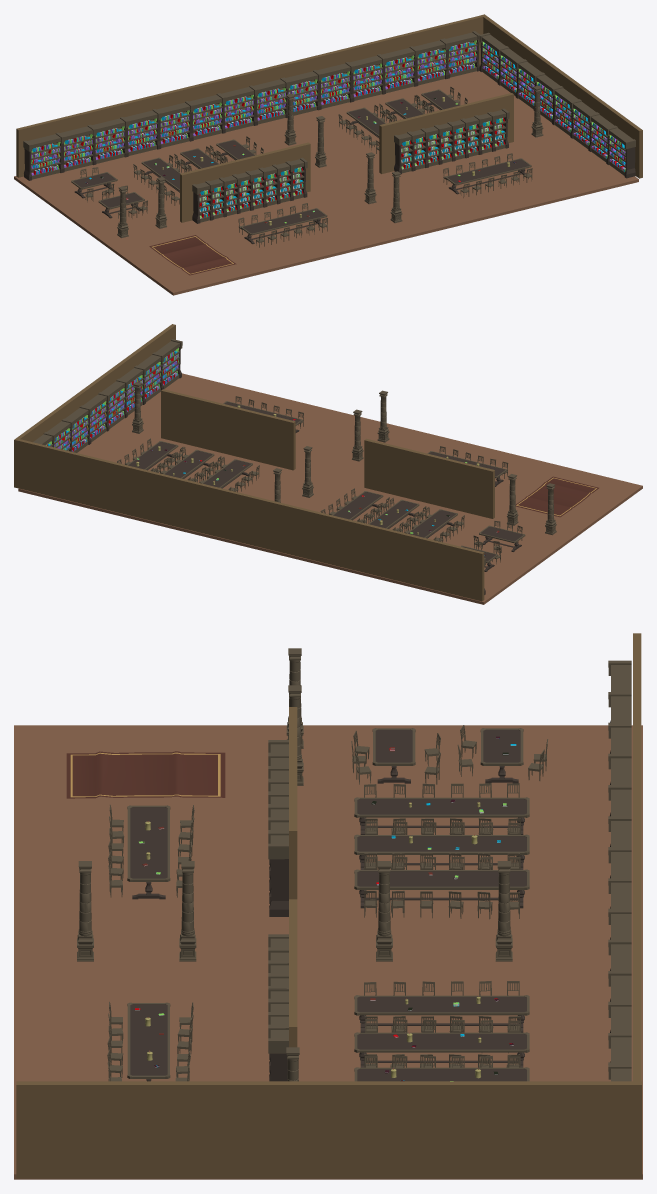
Rendered from library.fbx.
3 views of the same model, one above another, from view 1: azimuth 30°, elevation 25°; view 2: azimuth 150°, elevation 25°; view 3: azimuth 270°, elevation 25° (orthographic). The views are drawn at different scales.
Visible parts, largest first — view 1: Cube.002, Wall.012, Wall.011, Wall.014, Wall.013, Carpet_1, BookCaseLargeBooks, BookCaseLargeBooks.002, BookCaseLargeBooks.013, BookCaseLargeBooks.006, BookCaseLargeBooks.011, BookCaseLargeBooks.003 (+47 smaller); view 2: Cube.002, Wall.012, Wall.014, Wall.013, Wall.011, Carpet_1, BookCaseLargeBooks.021, BookCaseLargeBooks.017, BookCaseLargeBooks.020, BookCaseLargeBooks.018, BookCaseLargeBooks.016, BookCaseLargeBooks.019 (+13 smaller); view 3: Cube.002, Wall.011, Carpet_1, Table2.004, Table2.001, Table2.006, Wall.012, Table2.002, Table2.003, Table2.008, Table2.007, Table2.005 (+16 smaller).
Boxes of the visible parts, x1=… form: Cube.002: x1=14, y1=65, x2=638, y2=295; Wall.012: x1=16, y1=15, x2=483, y2=177; Wall.011: x1=481, y1=14, x2=642, y2=178; Wall.014: x1=379, y1=93, x2=513, y2=173; Wall.013: x1=180, y1=142, x2=310, y2=222; Carpet_1: x1=149, y1=235, x2=236, y2=275; BookCaseLargeBooks: x1=23, y1=133, x2=64, y2=180; BookCaseLargeBooks.002: x1=87, y1=117, x2=128, y2=165; BookCaseLargeBooks.013: x1=440, y1=31, x2=479, y2=79; BookCaseLargeBooks.006: x1=216, y1=85, x2=257, y2=133; BookCaseLargeBooks.011: x1=377, y1=46, x2=418, y2=94; BookCaseLargeBooks.003: x1=122, y1=109, x2=160, y2=157; Cube.002: x1=18, y1=373, x2=642, y2=604; Wall.012: x1=17, y1=439, x2=484, y2=601; Wall.014: x1=161, y1=389, x2=295, y2=470; Wall.013: x1=364, y1=438, x2=494, y2=518; Wall.011: x1=14, y1=324, x2=175, y2=487; Carpet_1: x1=515, y1=476, x2=598, y2=517; BookCaseLargeBooks.021: x1=152, y1=339, x2=182, y2=390; BookCaseLargeBooks.017: x1=79, y1=392, x2=109, y2=444; BookCaseLargeBooks.020: x1=134, y1=352, x2=164, y2=404; BookCaseLargeBooks.018: x1=98, y1=378, x2=128, y2=430; BookCaseLargeBooks.016: x1=61, y1=405, x2=91, y2=452; BookCaseLargeBooks.019: x1=116, y1=365, x2=146, y2=418; Cube.002: x1=14, y1=725, x2=642, y2=1179; Wall.011: x1=16, y1=1081, x2=641, y2=1178; Carpet_1: x1=66, y1=751, x2=225, y2=798; Table2.004: x1=354, y1=995, x2=529, y2=1032; Table2.001: x1=354, y1=797, x2=529, y2=834; Table2.006: x1=354, y1=1032, x2=529, y2=1067; Wall.012: x1=633, y1=633, x2=641, y2=1082; Table2.002: x1=354, y1=869, x2=529, y2=908; Table2.003: x1=354, y1=834, x2=529, y2=869; Table2.008: x1=127, y1=805, x2=170, y2=899; Table2.007: x1=127, y1=1002, x2=170, y2=1081; Table2.005: x1=354, y1=1067, x2=529, y2=1081.
Size of the model in its own units: 6304 by 645 by 3695.
